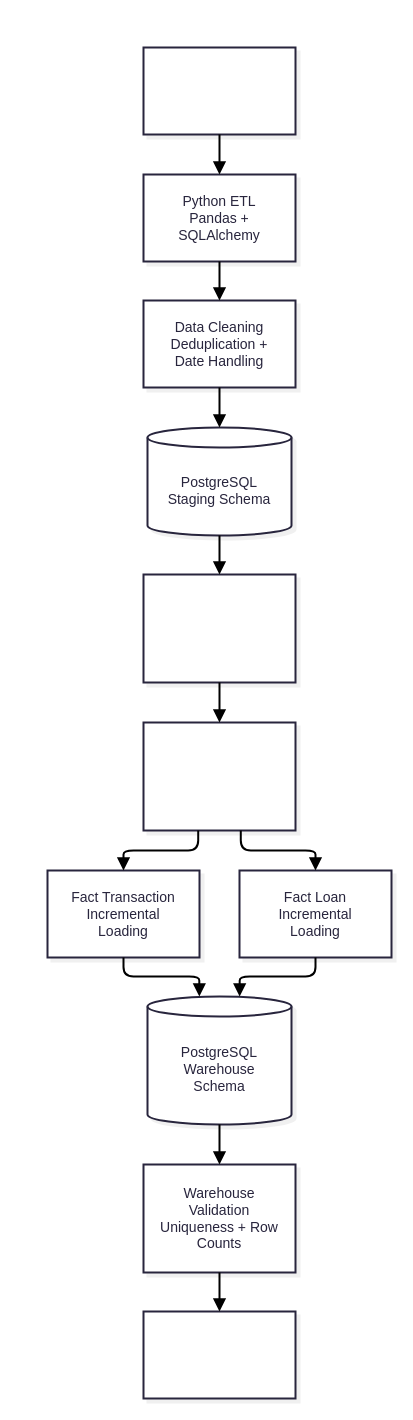
This 413x1420 diagram has some shape labels left out. Each missing label, with the centre of its shape:
"Kaggle Banking Dataset 11 CSV Files" belongs at [221,92].
"Power BI KPI Cards + Charts" belongs at [221,1356].
"Staging Validation Row Counts + Foreign Keys" belongs at [221,630].
"Warehouse Mapping Dimension Lookups" belongs at [221,778].
